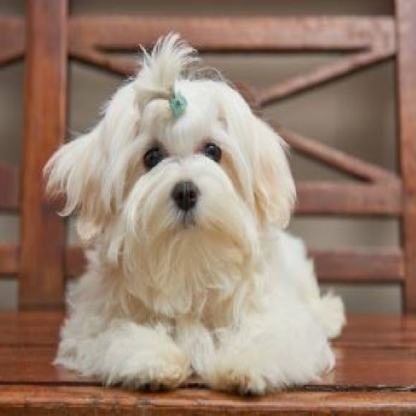maltese: (37, 30, 348, 397)
